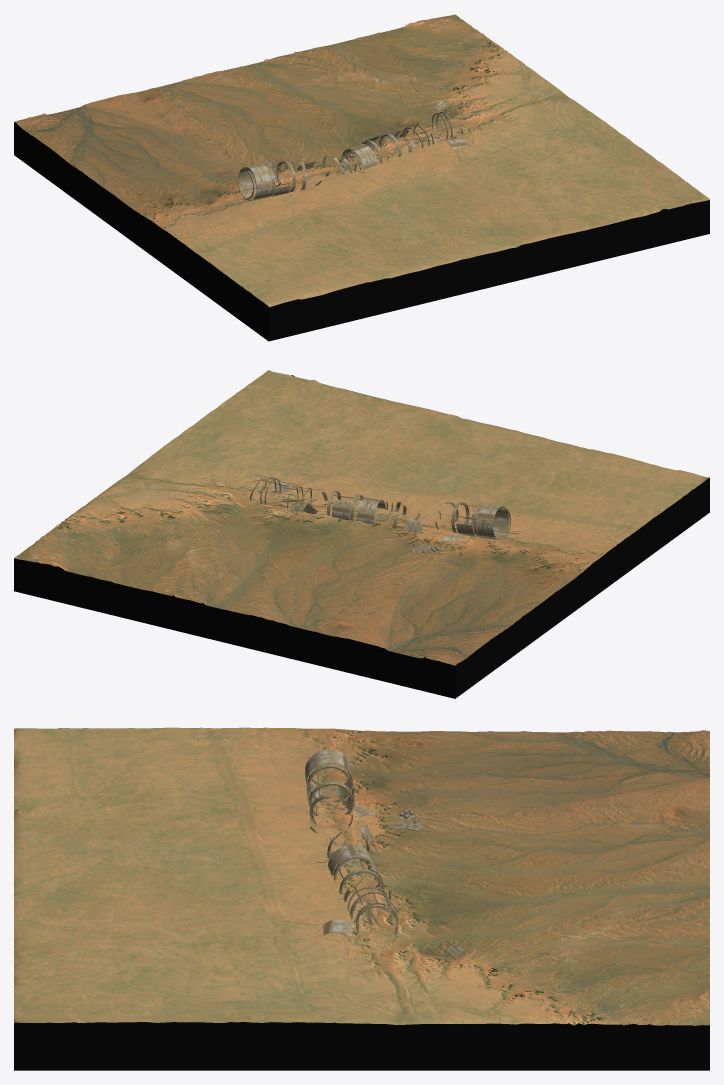
File: env1.dae
The picture shows the model from 3 angles, top to bottom: view 1: azimuth 30°, elevation 25°; view 2: azimuth 150°, elevation 25°; view 3: azimuth 270°, elevation 25°; orthographic projection. The views are drawn at different scales.
Visible parts, largest first — view 1: TerrainLP, Set; view 2: TerrainLP, Set; view 3: TerrainLP, Set.
Part boxes in pixels (<box>): TerrainLP: <box>14,14,709,341</box>; Set: <box>235,97,468,200</box>; TerrainLP: <box>14,370,709,698</box>; Set: <box>199,474,521,553</box>; TerrainLP: <box>14,727,709,1070</box>; Set: <box>305,749,467,959</box>.
Size of the model in its own units: 210 by 210 by 30.
Materials: 3 (2 with a texture image).
